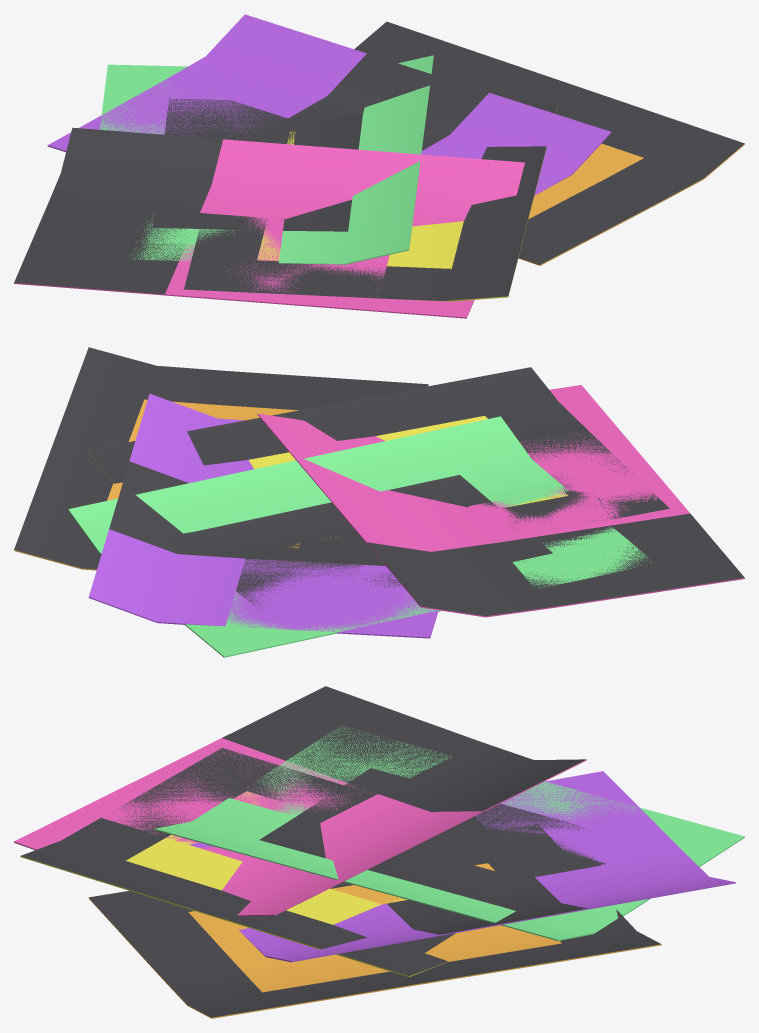
The model's file is paper_flyers_c.fbx.
3 views of the same model, one above another, from view 1: azimuth 30°, elevation 25°; view 2: azimuth 150°, elevation 25°; view 3: azimuth 270°, elevation 25° (orthographic). The views are drawn at different scales.
Parts seen in each view (by area): view 1: paper_flyers_c; view 2: paper_flyers_c; view 3: paper_flyers_c.
Boxes of the visible parts, x1=… form: paper_flyers_c: x1=14, y1=14, x2=744, y2=318; paper_flyers_c: x1=14, y1=347, x2=744, y2=657; paper_flyers_c: x1=14, y1=686, x2=744, y2=1018.
Bounding box in the file's own units: 0.2514 × 0.0079 × 0.2244.
